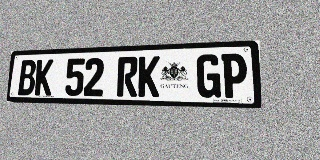2: (84, 58, 104, 96)
5: (65, 58, 85, 96)
B: (18, 60, 36, 95)
G: (197, 54, 221, 98)
K: (138, 56, 160, 97), (34, 59, 54, 96)
P: (221, 53, 247, 98)
R: (117, 57, 138, 97)
